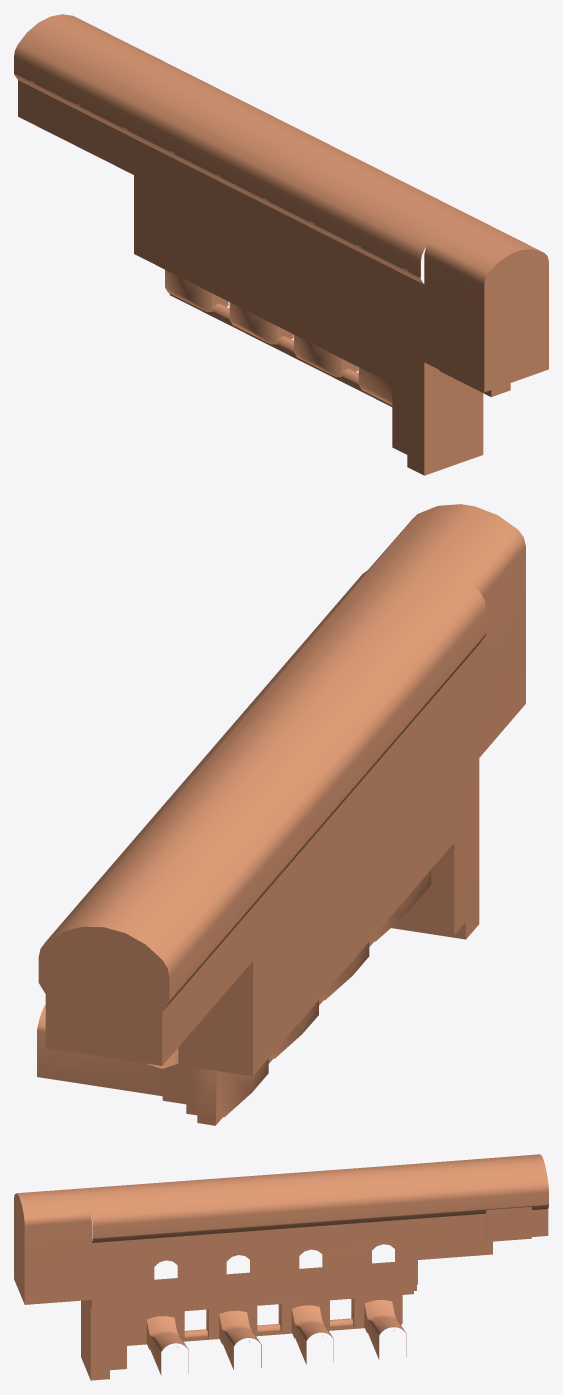
File: SJK3BD.glb
3 renders of one model, top to bottom at view 1: azimuth 30°, elevation 25°; view 2: azimuth 150°, elevation 25°; view 3: azimuth 270°, elevation 25°, orthographic. The views are drawn at different scales.
Parts seen in each view (by area): view 1: SJK3BD_SJK3WR; view 2: SJK3BD_SJK3WR; view 3: SJK3BD_SJK3WR.
Boxes of the visible parts, box(x1,y1,x2,y2) form: SJK3BD_SJK3WR: box(14, 14, 548, 475); SJK3BD_SJK3WR: box(37, 504, 525, 1125); SJK3BD_SJK3WR: box(14, 1154, 548, 1380).
Bounding box in the file's own units: 79.48 × 80.12 × 218.
